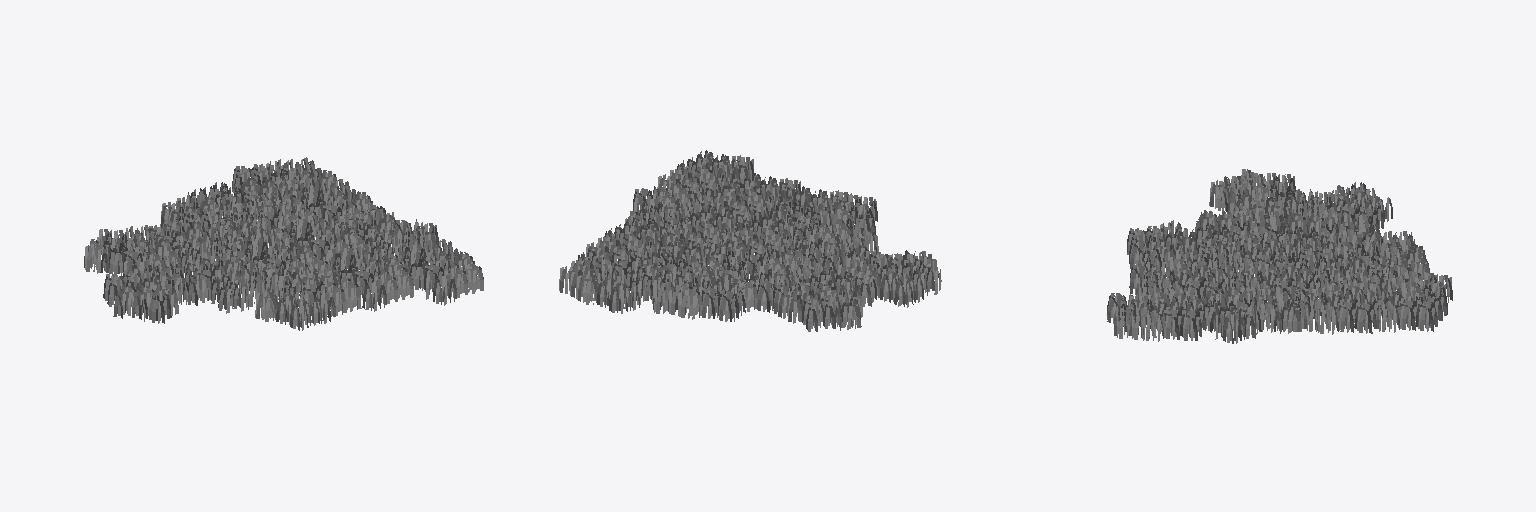
Rendered from grass.obj.
3 views of the same model, side by side, from view 1: azimuth 30°, elevation 25°; view 2: azimuth 150°, elevation 25°; view 3: azimuth 270°, elevation 25° (orthographic).
Parts seen in each view (by area): view 1: Plane.006_Plane.017; view 2: Plane.006_Plane.017; view 3: Plane.006_Plane.017.
Part boxes in pixels (x1,y1,x2,y2): Plane.006_Plane.017: (84,157,483,330); Plane.006_Plane.017: (559,150,941,331); Plane.006_Plane.017: (1107,169,1452,343).
Size of the model in its own units: 19.63 by 1.34 by 18.56.